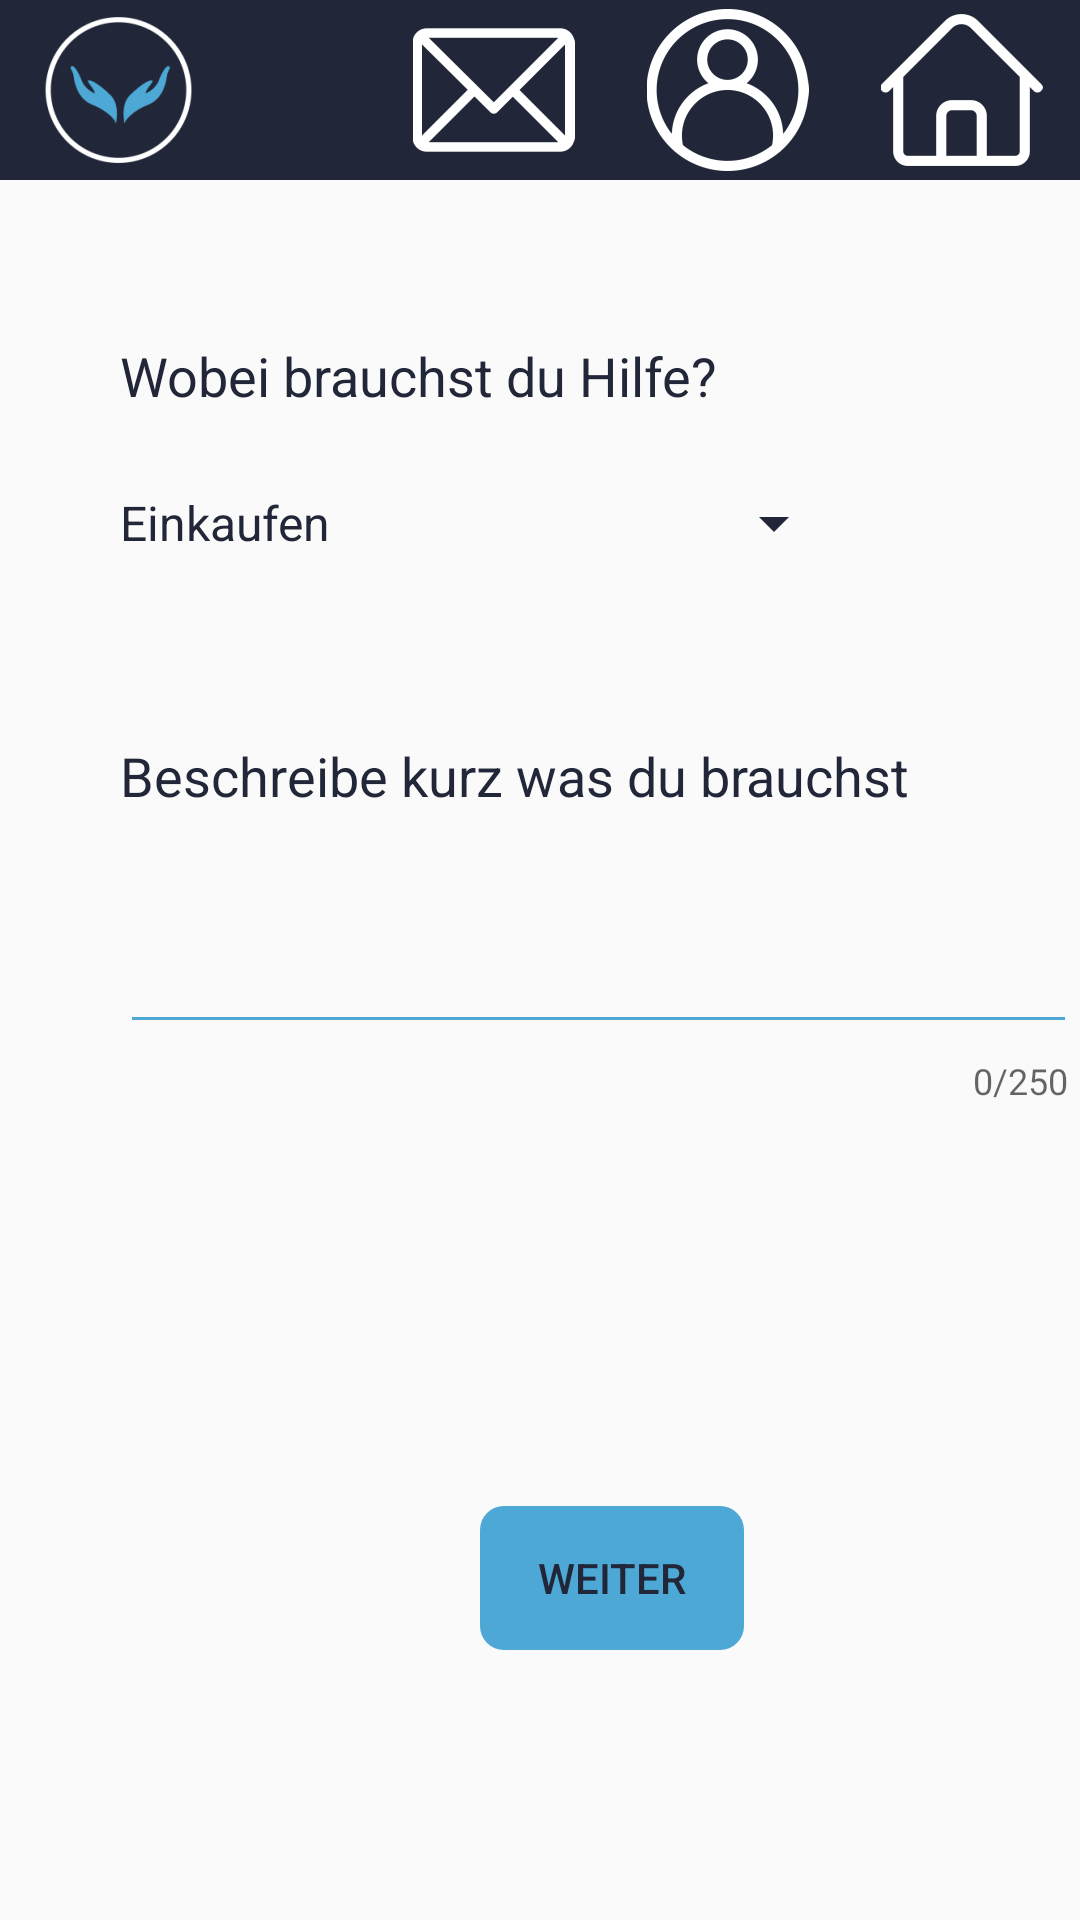

Point at icon controls on the screen. Image size 1080 × 1920, points as point (x, y).
home: point (962, 90)
message: point (494, 90)
profile: point (728, 90)
